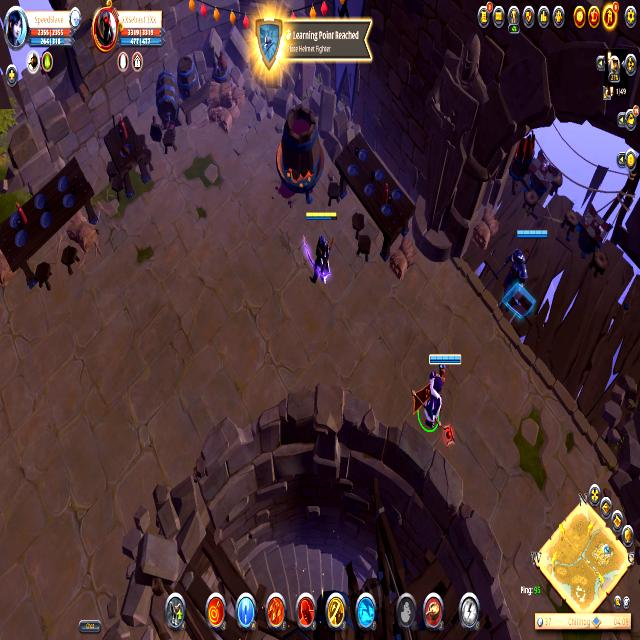red: (491, 222, 553, 322), (412, 347, 463, 441), (302, 207, 338, 290)
